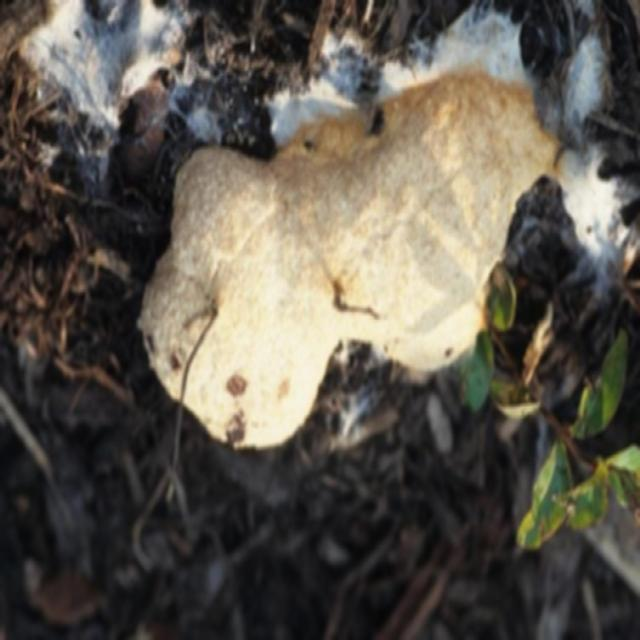Dog_vomit_slime_mold: (98, 78, 582, 420)
